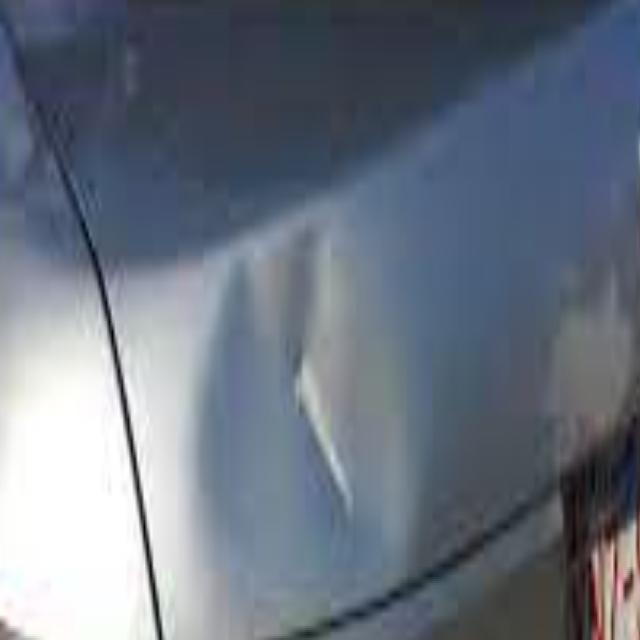dents: (198, 265, 400, 573)
